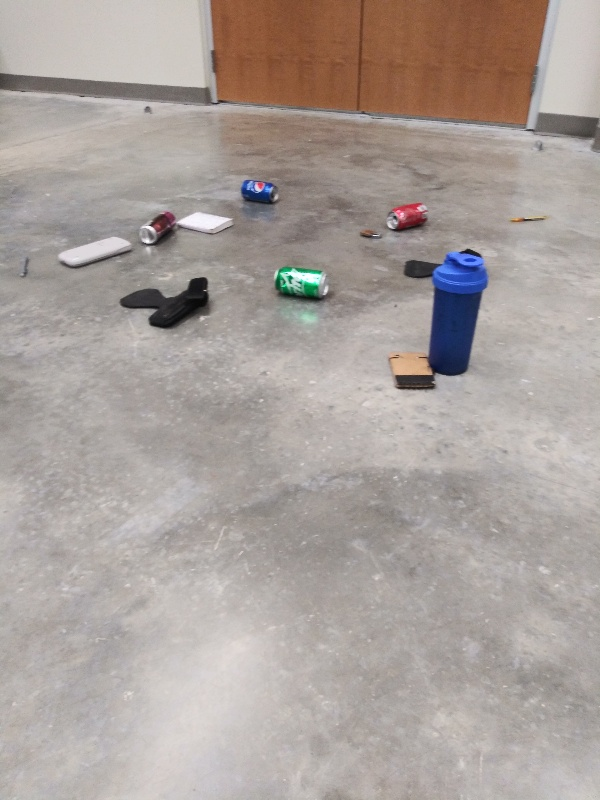can: (269, 261, 333, 303), (135, 204, 181, 253), (384, 200, 435, 235), (238, 174, 285, 209)
